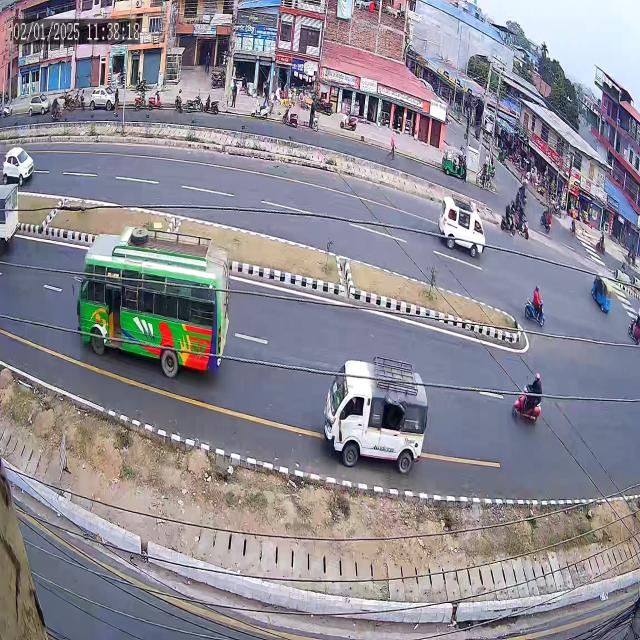auto: (588, 262, 615, 321)
bus: (68, 214, 234, 394)
motorcycle: (504, 354, 550, 436), (515, 278, 553, 334)
van: (314, 347, 428, 481), (436, 189, 488, 266)
